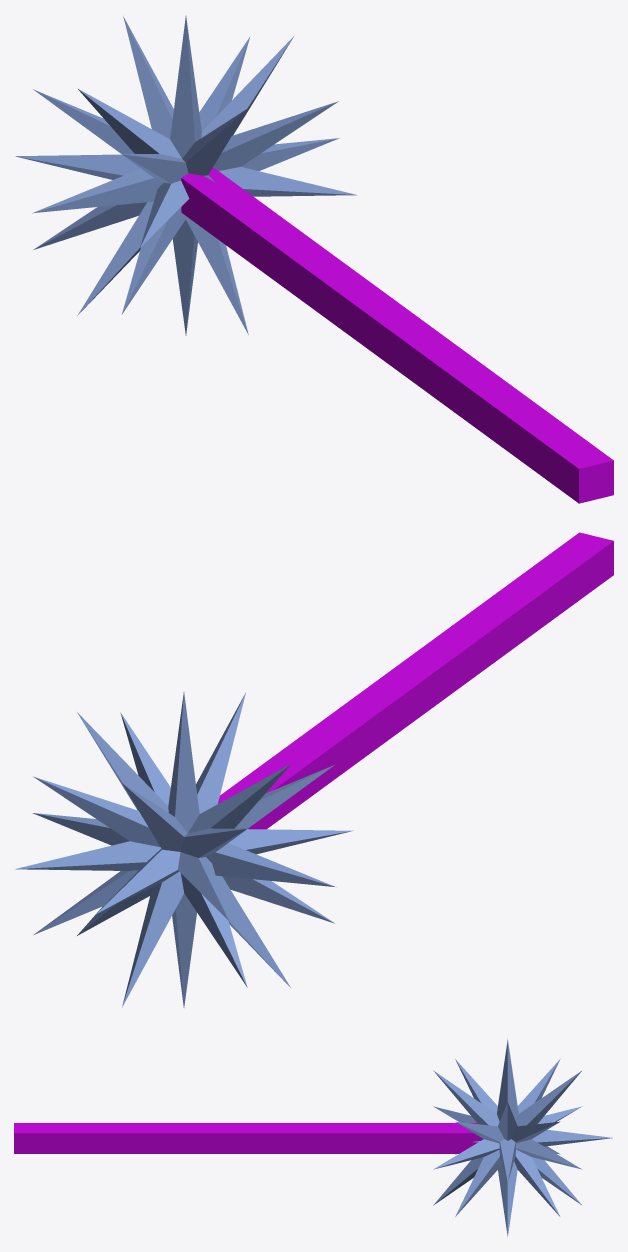
Rendered from Starshot.glb.
The picture shows the model from 3 angles, top to bottom: view 1: azimuth 30°, elevation 25°; view 2: azimuth 150°, elevation 25°; view 3: azimuth 270°, elevation 25°; orthographic projection. The views are drawn at different scales.
Visible parts, largest first — view 1: Star, Cube; view 2: Star, Cube; view 3: Cube, Star.
Part boxes in pixels (x1=…): Star: x1=15, y1=15, x2=356, y2=335; Cube: x1=181, y1=168, x2=613, y2=503; Star: x1=15, y1=692, x2=353, y2=1007; Cube: x1=218, y1=532, x2=613, y2=829; Cube: x1=14, y1=1123, x2=483, y2=1153; Star: x1=433, y1=1038, x2=612, y2=1237.
Size of the model in its own units: 3.78 by 3.78 by 10.67.
